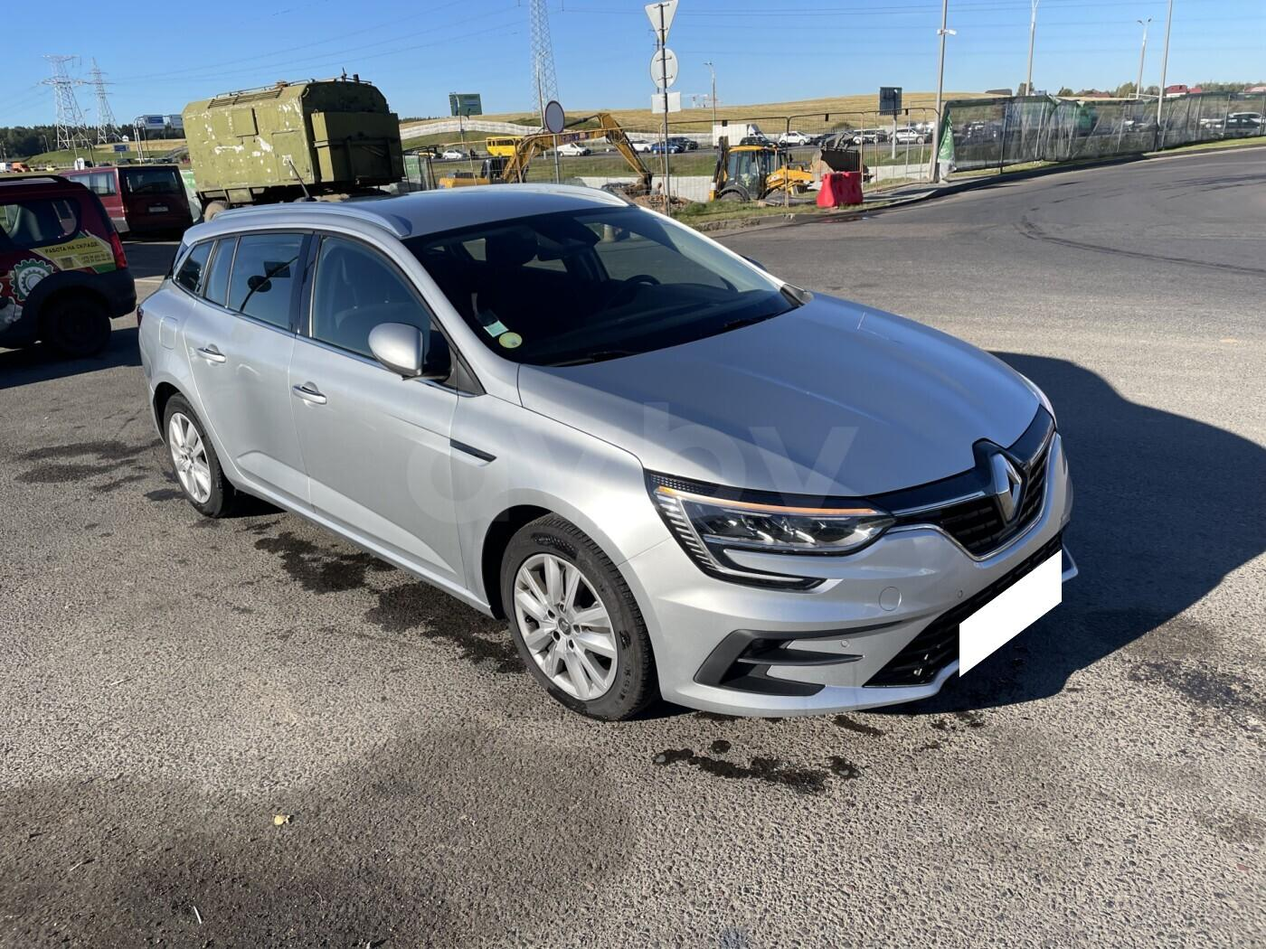Megane_2020: (132, 194, 1074, 742)
